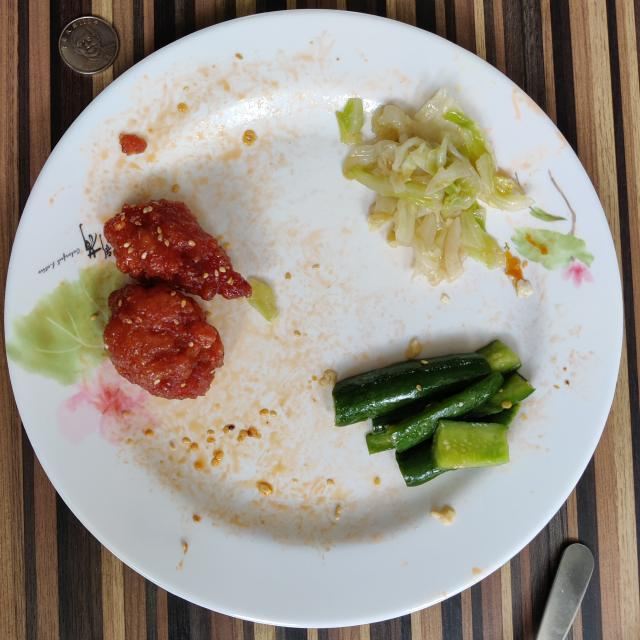cabbage: (336, 88, 534, 285)
coin: (59, 16, 119, 75)
cucumber: (332, 340, 535, 486)
